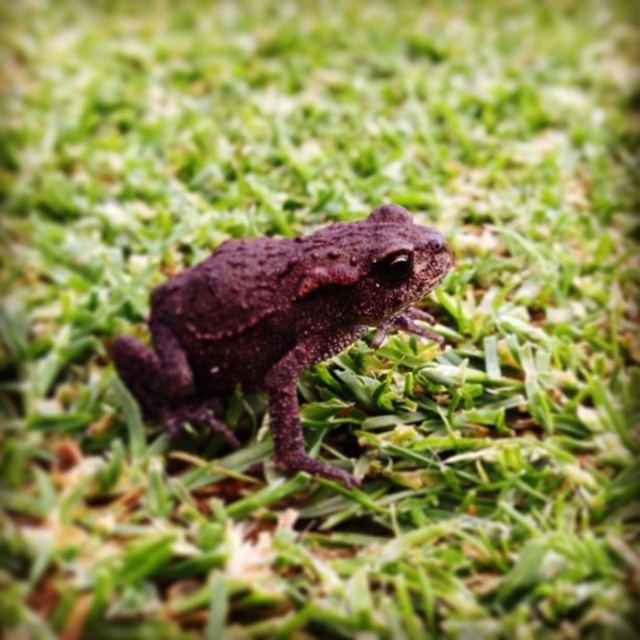Frog: (99, 207, 451, 494)
